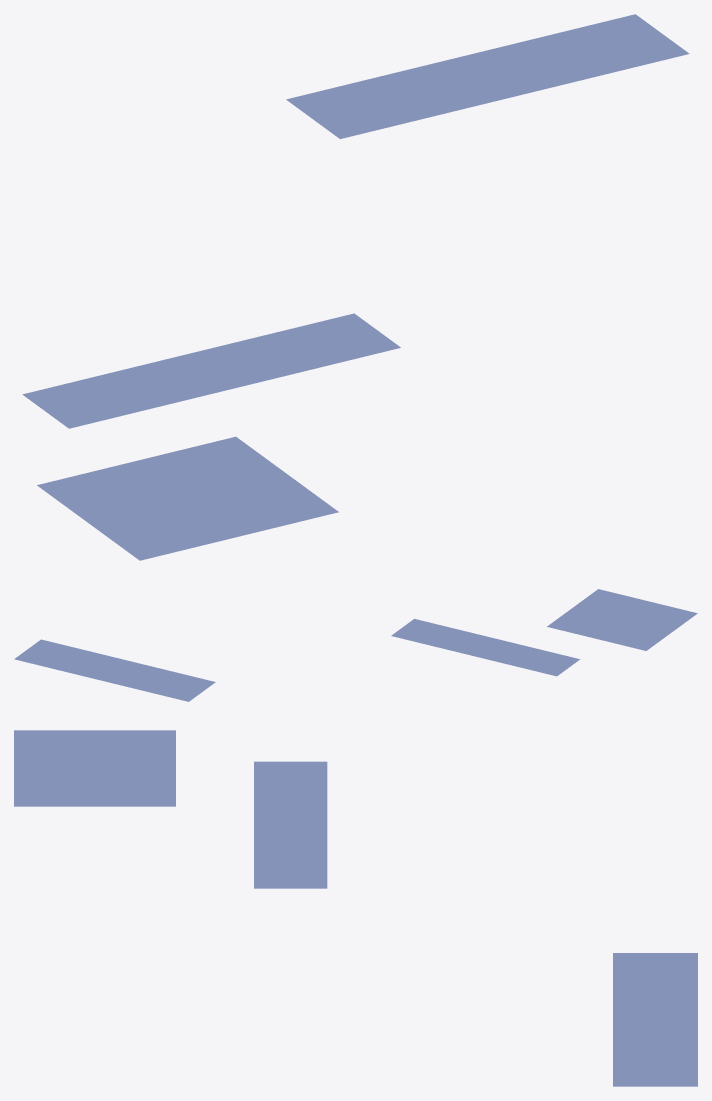
Rendered from shuguosenlin_shui.glb.
3 renders of one model, top to bottom at view 1: azimuth 30°, elevation 25°; view 2: azimuth 150°, elevation 25°; view 3: azimuth 270°, elevation 25°, orthographic. The views are drawn at different scales.
Parts seen in each view (by area): view 1: lib:shuguosenlin_shui; view 2: lib:shuguosenlin_shui; view 3: lib:shuguosenlin_shui.
Boxes of the visible parts, box(x1,y1,x2,y2) form: lib:shuguosenlin_shui: box(22, 14, 689, 560); lib:shuguosenlin_shui: box(14, 589, 697, 701); lib:shuguosenlin_shui: box(14, 730, 697, 1086).
Size of the model in its own units: 32.24 by 0 by 26.14.
